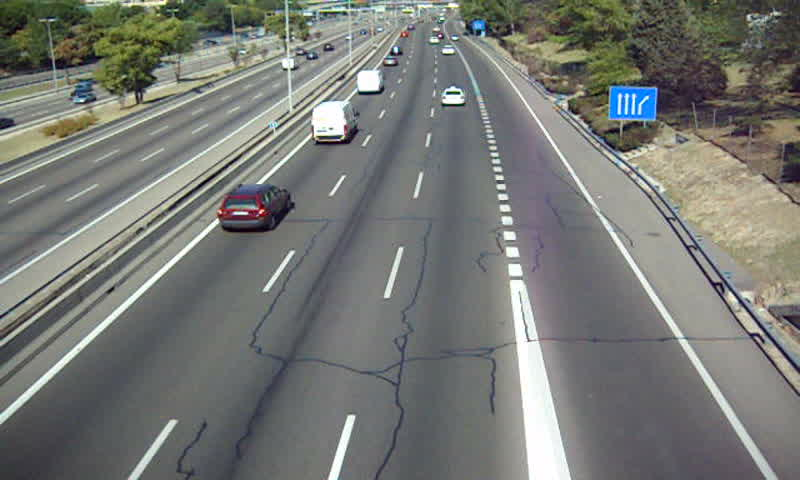car: (218, 185, 290, 230), (441, 88, 465, 107), (382, 56, 398, 68), (441, 44, 456, 55), (392, 44, 404, 55)
van: (311, 102, 359, 141), (355, 70, 383, 94)
